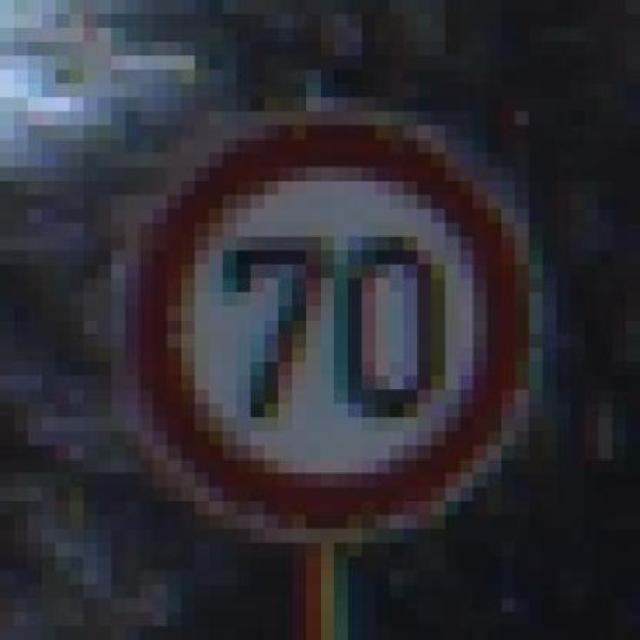forb_speed_over_70: (133, 117, 536, 531)
